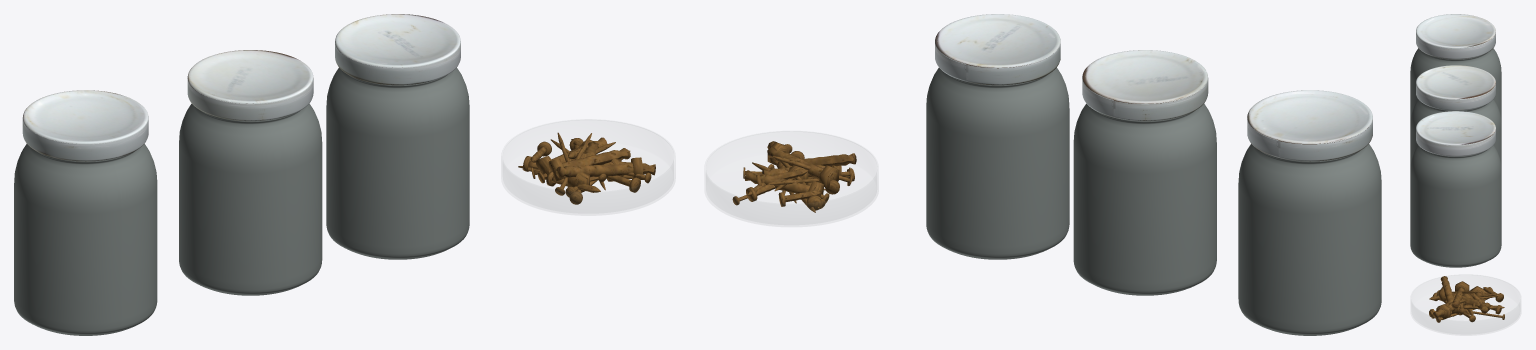
File: vermelhos_e_pregos_22_web.glb
The picture shows the model from 3 angles, left to right: view 1: azimuth 30°, elevation 25°; view 2: azimuth 150°, elevation 25°; view 3: azimuth 270°, elevation 25°; orthographic projection. The views are drawn at different scales.
Visible parts, largest first — view 1: Vidro_Pote_Solo_Rosado, Vidro_Pote_Solo_Vermelho, Vidro_Pote_Solo_Amarelo, Tampa_Pote_Solo_Rosado, Tampa_Pote_Solo_Amarelo, Tampa_Pote_Solo_Vermelho, Pregos_e_Parafusos, Placa_de_Petri_Pregos_e_Parafusos; view 2: Vidro_Pote_Solo_Amarelo, Vidro_Pote_Solo_Vermelho, Vidro_Pote_Solo_Rosado, Tampa_Pote_Solo_Amarelo, Tampa_Pote_Solo_Rosado, Tampa_Pote_Solo_Vermelho, Pregos_e_Parafusos, Placa_de_Petri_Pregos_e_Parafusos; view 3: Vidro_Pote_Solo_Vermelho, Tampa_Pote_Solo_Vermelho, Tampa_Pote_Solo_Amarelo, Tampa_Pote_Solo_Rosado, Pregos_e_Parafusos, Vidro_Pote_Solo_Rosado, Placa_de_Petri_Pregos_e_Parafusos, Vidro_Pote_Solo_Amarelo.
Part boxes in pixels (box(x1,y1,x2,y2)): Vidro_Pote_Solo_Rosado: box(14, 144, 157, 335); Vidro_Pote_Solo_Vermelho: box(326, 68, 469, 259); Vidro_Pote_Solo_Amarelo: box(179, 103, 322, 295); Tampa_Pote_Solo_Rosado: box(22, 90, 148, 161); Tampa_Pote_Solo_Amarelo: box(187, 50, 313, 121); Tampa_Pote_Solo_Vermelho: box(335, 14, 460, 85); Pregos_e_Parafusos: box(518, 132, 655, 204); Placa_de_Petri_Pregos_e_Parafusos: box(503, 120, 673, 213); Vidro_Pote_Solo_Amarelo: box(1073, 103, 1216, 295); Vidro_Pote_Solo_Vermelho: box(926, 67, 1069, 259); Vidro_Pote_Solo_Rosado: box(1238, 144, 1381, 335); Tampa_Pote_Solo_Amarelo: box(1082, 50, 1208, 121); Tampa_Pote_Solo_Rosado: box(1247, 90, 1372, 161); Tampa_Pote_Solo_Vermelho: box(935, 14, 1060, 85); Pregos_e_Parafusos: box(732, 141, 856, 212); Placa_de_Petri_Pregos_e_Parafusos: box(706, 131, 876, 224); Vidro_Pote_Solo_Vermelho: box(1410, 145, 1501, 267); Tampa_Pote_Solo_Vermelho: box(1416, 111, 1495, 156); Tampa_Pote_Solo_Amarelo: box(1416, 65, 1495, 110); Tampa_Pote_Solo_Rosado: box(1416, 14, 1495, 59); Pregos_e_Parafusos: box(1429, 276, 1504, 322); Vidro_Pote_Solo_Rosado: box(1410, 48, 1501, 122); Placa_de_Petri_Pregos_e_Parafusos: box(1411, 275, 1520, 334); Vidro_Pote_Solo_Amarelo: box(1410, 99, 1501, 168).
Bounding box in the file's own units: 0.4282 × 0.1223 × 0.1.
9 materials, 7 textured.
